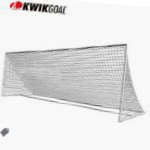goals: (1, 43, 146, 125)
